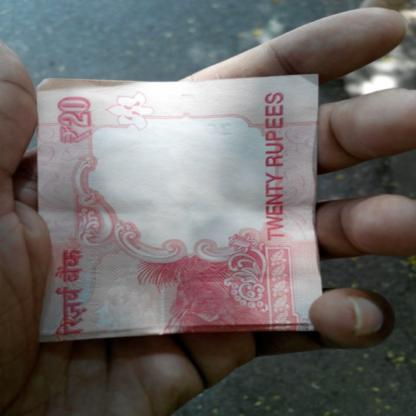Old20Back: (44, 84, 308, 332)
